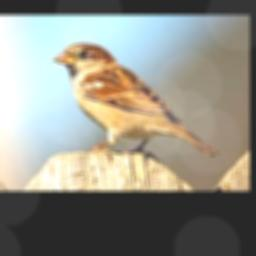Sparrow: (52, 43, 220, 156)
